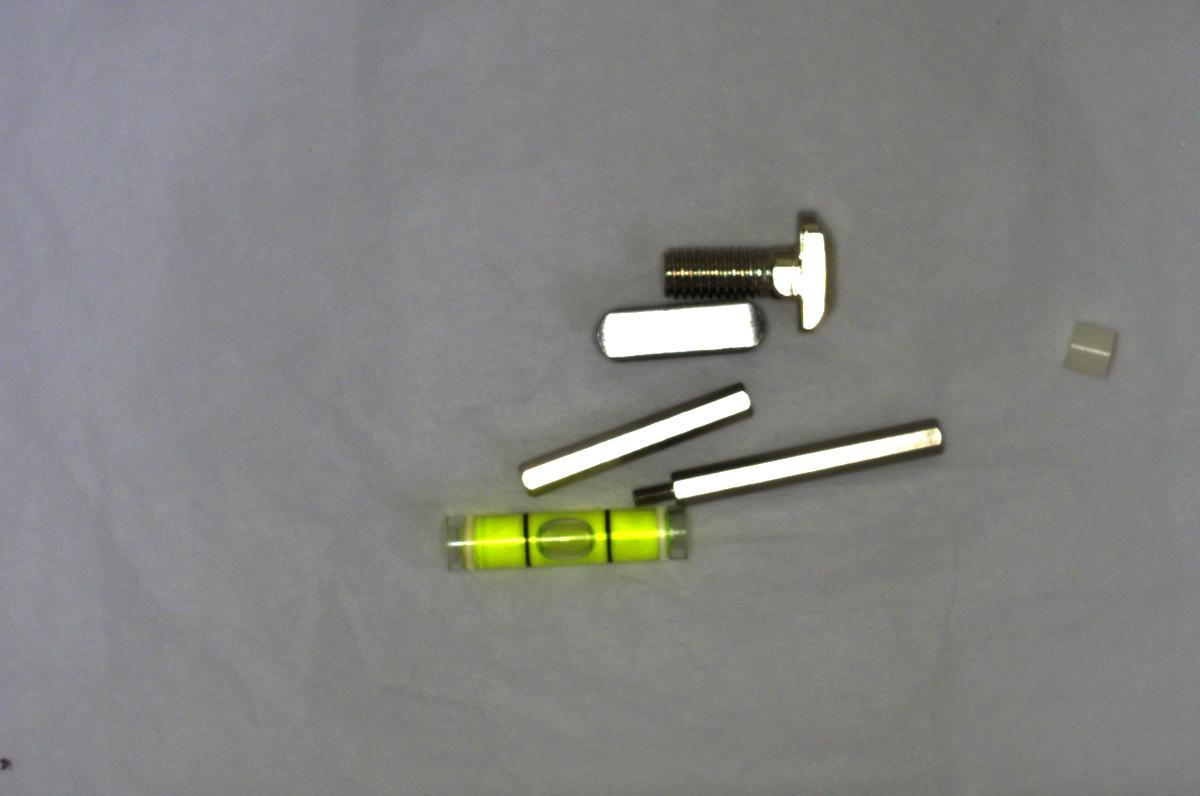Double hexagonal column: (504, 379, 751, 495)
Hexagonal steel column: (632, 415, 947, 506)
Horizontal bubble: (435, 501, 700, 578)
Keybar: (588, 295, 767, 374)
Plastic cushion pillar: (1051, 306, 1132, 387)
T-shaped screw: (655, 207, 845, 338)
